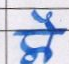ai_matra: (31, 9, 58, 30)
